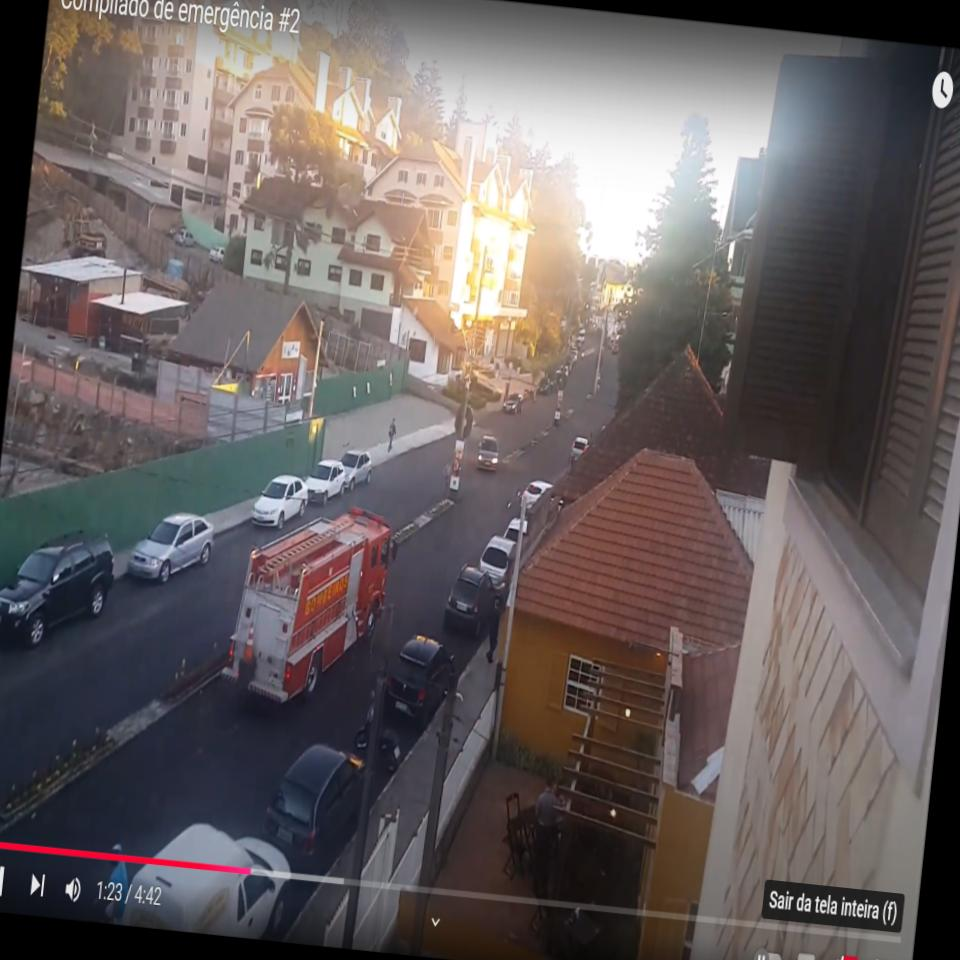viatura: (218, 496, 402, 719)
